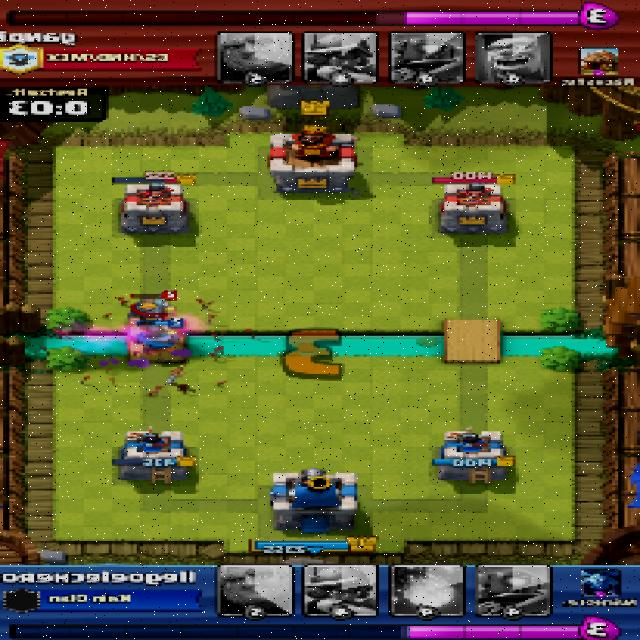Enemy-Knight: (124, 300, 175, 326)
Player-Knight: (126, 324, 187, 355)
